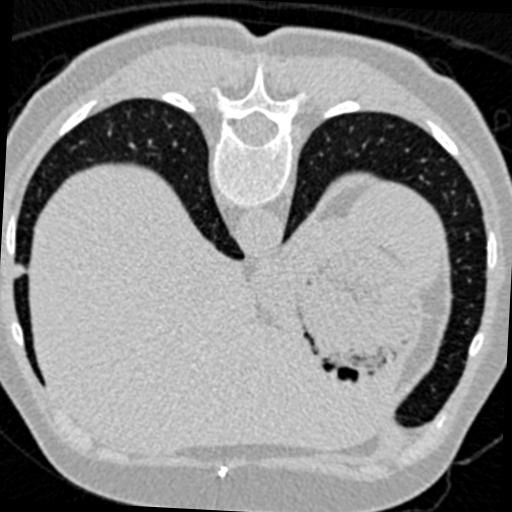nodule: (8, 262, 28, 282)
